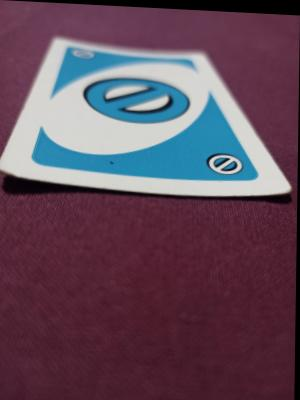blue: (64, 49, 220, 177)
skip: (204, 146, 249, 181)
